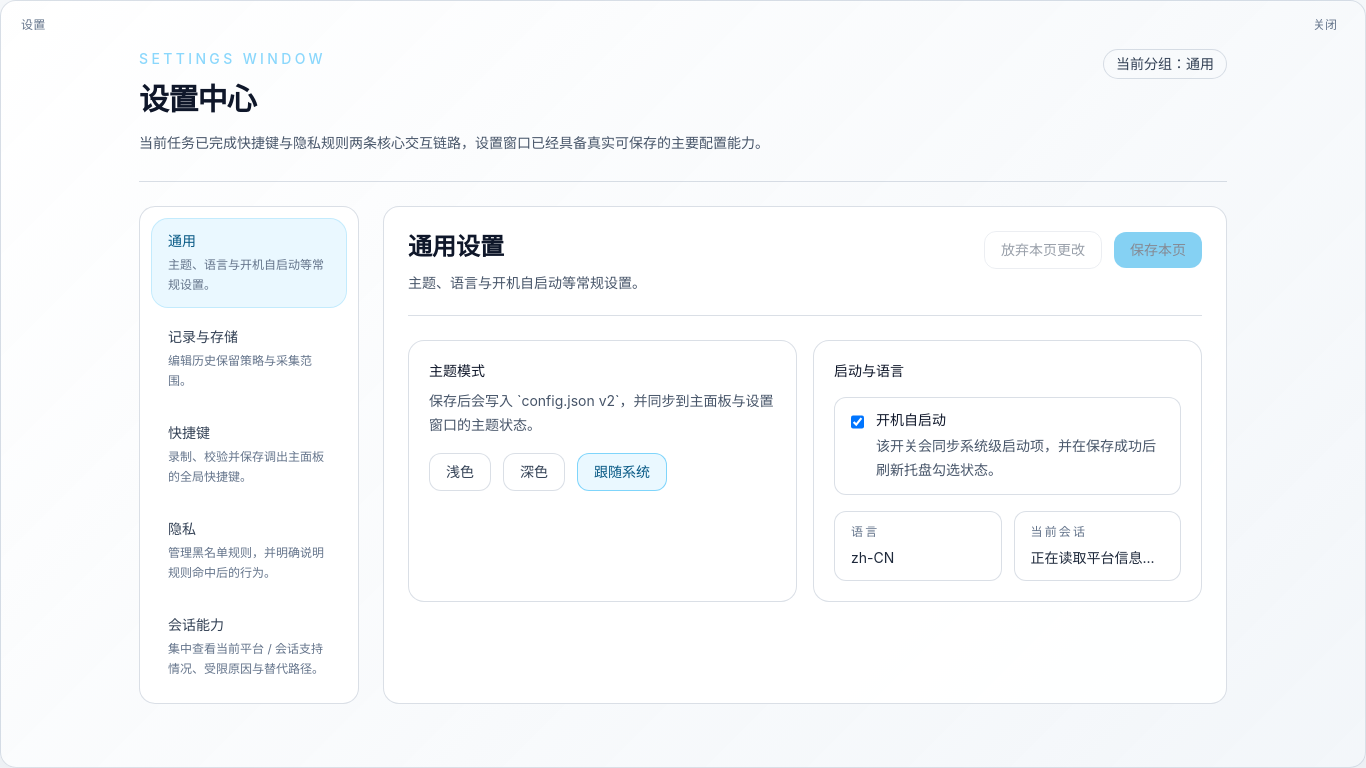
Test: components/SettingsWindowPlaceholder › 当前会话能力完整支持时只在独立分组展示完整摘要
Expected: the heading "设置中心" is shown, [139,81,256,117]
Expected: the text "当前会话能力完整支持" is not shown
Step 1. Click the tab "会话能力 集中查看当前平台 / 会话支持情况、受限原因与替代路径。" → (249, 647), box [152,603,346,691]
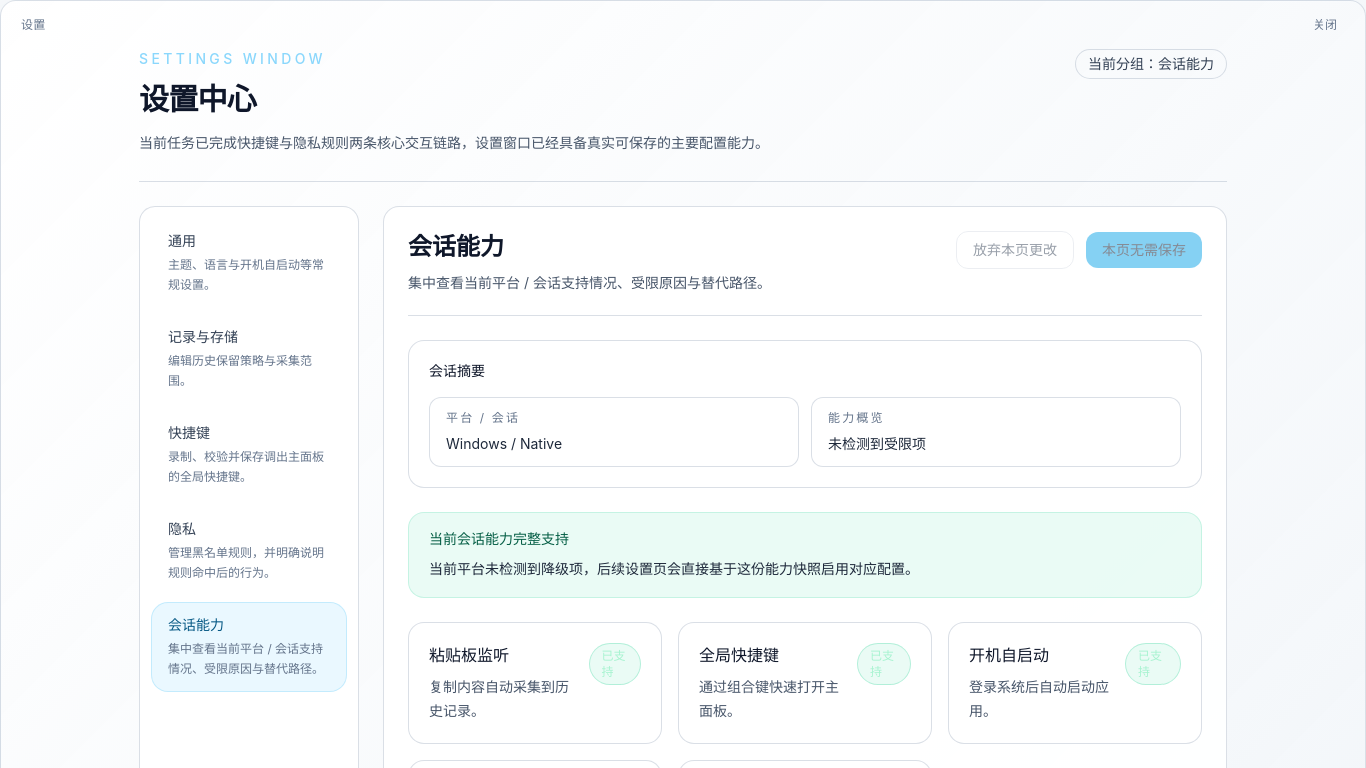
Expected: the button "本页无需保存" is disabled, [1086,232,1202,268]
Now the heading "会话能力" is shown, box [408,232,504,261]
Now the text "当前会话能力完整支持" is shown, box [429,530,569,547]
